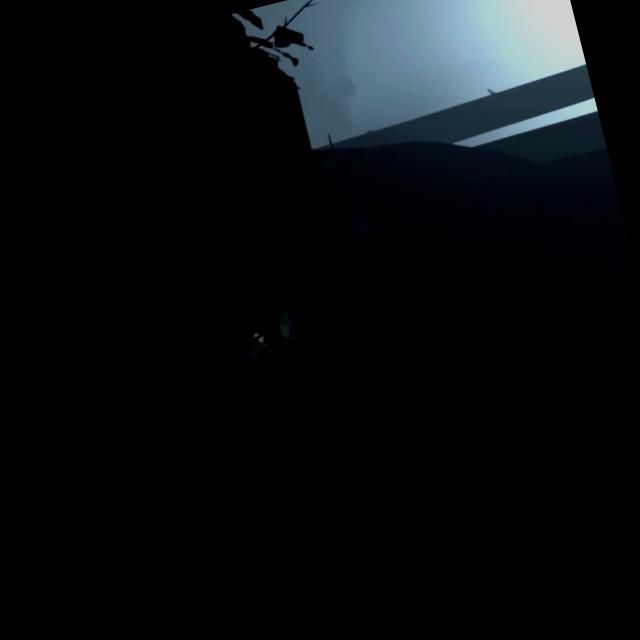boy: (216, 327, 280, 365)
